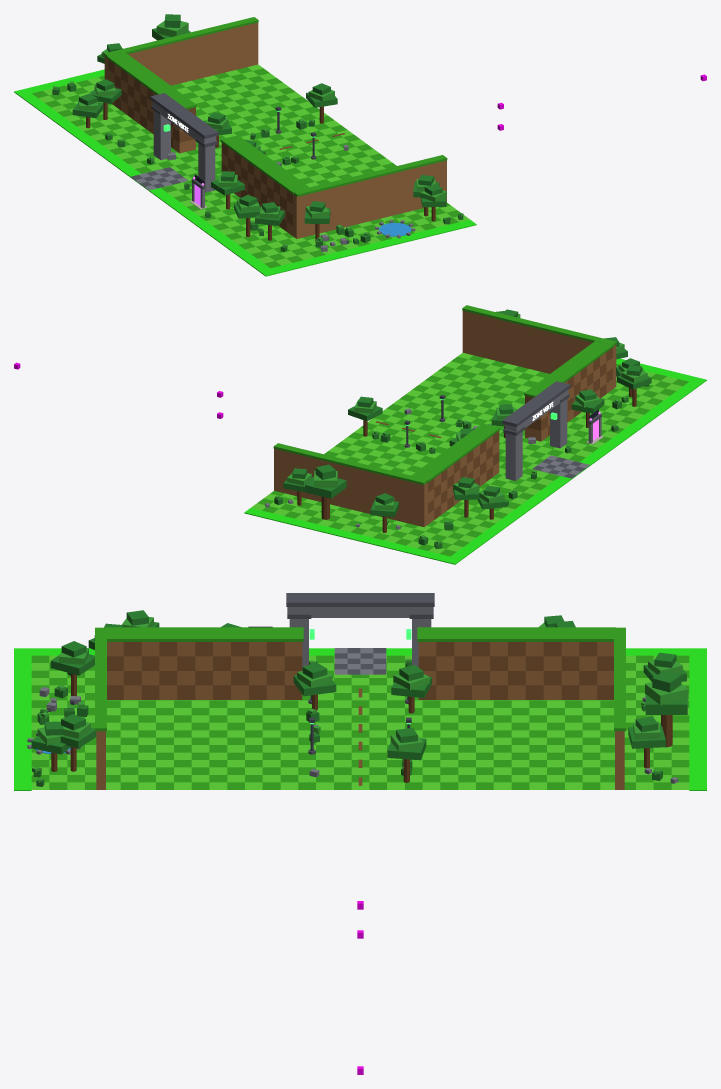
The model's file is Zone1_Verte.glb.
3 renders of one model, top to bottom at view 1: azimuth 30°, elevation 25°; view 2: azimuth 150°, elevation 25°; view 3: azimuth 270°, elevation 25°, orthographic. The views are drawn at different scales.
Visible parts, largest first — view 1: Zone1_Verte__grass_a, Zone1_Verte__grass_b, Zone1_Verte__dirt, Zone1_Verte__leaf, Zone1_Verte__grass_rim, Zone1_Verte__stone, Zone1_Verte__dirt_dark, Zone1_Verte__leaf_light, Zone1_Verte__stone_dark, Zone1_Verte__wood; view 2: Zone1_Verte__grass_a, Zone1_Verte__grass_b, Zone1_Verte__dirt, Zone1_Verte__leaf, Zone1_Verte__grass_rim, Zone1_Verte__stone, Zone1_Verte__dirt_dark, Zone1_Verte__leaf_light, Zone1_Verte__stone_dark, Zone1_Verte__wood; view 3: Zone1_Verte__grass_a, Zone1_Verte__grass_b, Zone1_Verte__dirt, Zone1_Verte__dirt_dark, Zone1_Verte__leaf, Zone1_Verte__grass_rim, Zone1_Verte__stone, Zone1_Verte__leaf_light, Zone1_Verte__stone_dark, Zone1_Verte__wood.
Boxes of the visible parts, box(x1,y1,x2,y2) form: Zone1_Verte__grass_a: box(32, 17, 460, 268); Zone1_Verte__grass_b: box(38, 64, 469, 265); Zone1_Verte__dirt: box(104, 22, 446, 238); Zone1_Verte__leaf: box(52, 14, 463, 251); Zone1_Verte__grass_rim: box(14, 69, 476, 276); Zone1_Verte__stone: box(135, 101, 415, 251); Zone1_Verte__dirt_dark: box(108, 59, 344, 231); Zone1_Verte__leaf_light: box(53, 21, 463, 247); Zone1_Verte__stone_dark: box(131, 93, 348, 243); Zone1_Verte__wood: box(86, 102, 435, 241); Zone1_Verte__grass_a: box(257, 305, 688, 556); Zone1_Verte__grass_b: box(251, 352, 682, 553); Zone1_Verte__dirt: box(274, 311, 616, 526); Zone1_Verte__leaf: box(274, 309, 651, 548); Zone1_Verte__grass_rim: box(244, 358, 706, 564); Zone1_Verte__stone: box(265, 390, 601, 529); Zone1_Verte__dirt_dark: box(376, 347, 612, 519); Zone1_Verte__leaf_light: box(275, 314, 647, 545); Zone1_Verte__stone_dark: box(404, 381, 601, 478); Zone1_Verte__wood: box(297, 388, 636, 532); Zone1_Verte__grass_a: box(31, 627, 689, 789); Zone1_Verte__grass_b: box(31, 655, 689, 789); Zone1_Verte__dirt: box(96, 642, 624, 789); Zone1_Verte__dirt_dark: box(107, 642, 613, 785); Zone1_Verte__leaf: box(31, 610, 687, 786); Zone1_Verte__grass_rim: box(14, 648, 706, 790); Zone1_Verte__stone: box(27, 607, 678, 783); Zone1_Verte__leaf_light: box(32, 617, 688, 782); Zone1_Verte__stone_dark: box(47, 593, 673, 783); Zone1_Verte__wood: box(51, 673, 672, 782).
Bounding box in the file's own units: 558 × 87 × 430.
